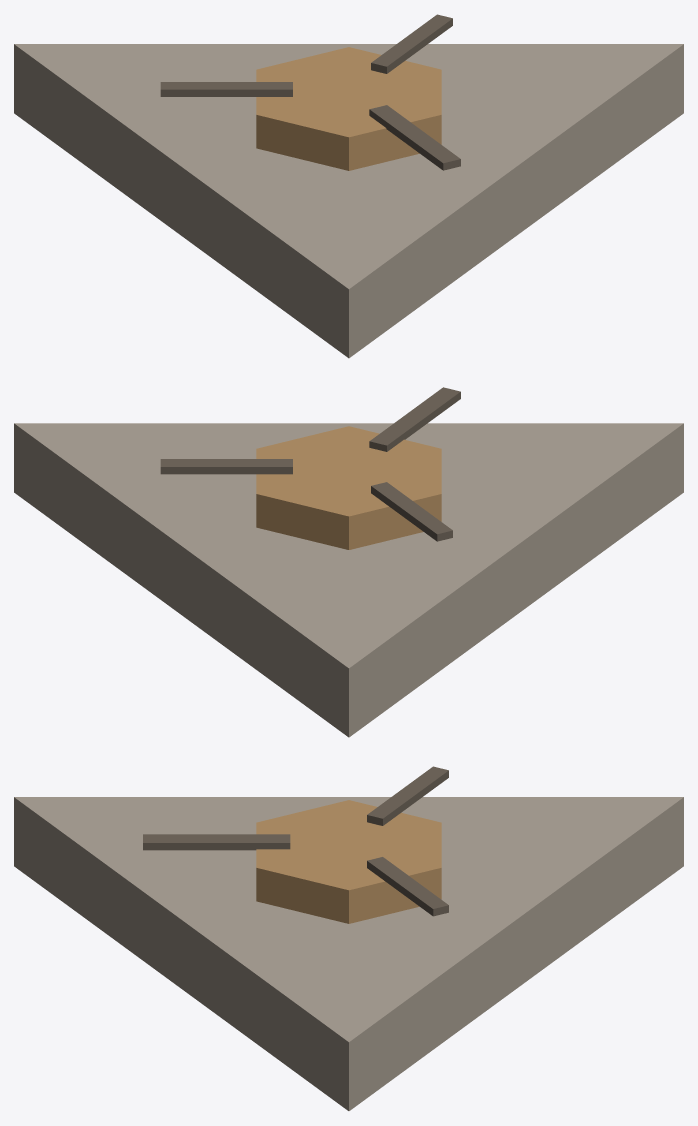
File: OldSymbol.glb
3 renders of one model, top to bottom at view 1: azimuth 30°, elevation 25°; view 2: azimuth 150°, elevation 25°; view 3: azimuth 270°, elevation 25°, orthographic.
Parts seen in each view (by area): view 1: OldSymbol_triangle, OldSymbol_center, OldSymbol_arm_a, OldSymbol_arm_c, OldSymbol_arm_b; view 2: OldSymbol_triangle, OldSymbol_center, OldSymbol_arm_b, OldSymbol_arm_a, OldSymbol_arm_c; view 3: OldSymbol_triangle, OldSymbol_center, OldSymbol_arm_a, OldSymbol_arm_c, OldSymbol_arm_b.
Boxes of the visible parts, left/top/right/bottom form: OldSymbol_triangle: left=14, top=44, right=683, bottom=358; OldSymbol_center: left=256, top=47, right=441, bottom=170; OldSymbol_arm_a: left=369, top=105, right=460, bottom=170; OldSymbol_arm_c: left=160, top=82, right=292, bottom=96; OldSymbol_arm_b: left=371, top=14, right=452, bottom=73; OldSymbol_triangle: left=14, top=423, right=683, bottom=737; OldSymbol_center: left=256, top=426, right=441, bottom=549; OldSymbol_arm_b: left=160, top=459, right=292, bottom=474; OldSymbol_arm_a: left=369, top=387, right=460, bottom=451; OldSymbol_arm_c: left=371, top=482, right=452, bottom=541; OldSymbol_triangle: left=14, top=797, right=683, bottom=1110; OldSymbol_center: left=256, top=800, right=441, bottom=923; OldSymbol_arm_a: left=143, top=834, right=290, bottom=850; OldSymbol_arm_c: left=367, top=766, right=448, bottom=825; OldSymbol_arm_b: left=367, top=857, right=448, bottom=916.
Bounding box in the file's own units: 0.57 × 0.1195 × 0.6582.
